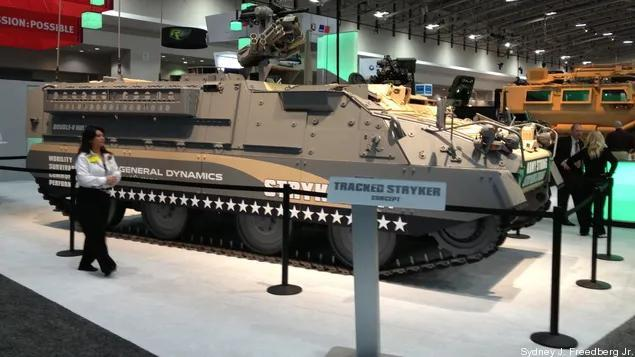MIL_IFV: (25, 26, 554, 280)
